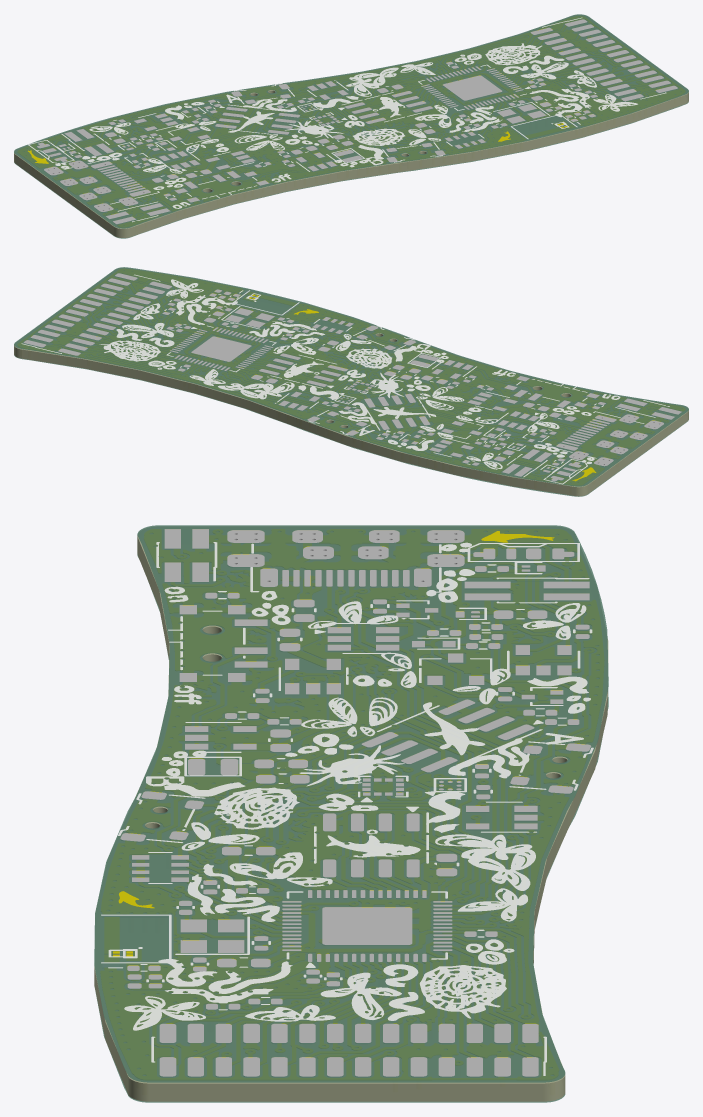
Rendered from tidal.glb.
3 renders of one model, top to bottom at view 1: azimuth 30°, elevation 25°; view 2: azimuth 150°, elevation 25°; view 3: azimuth 270°, elevation 25°, orthographic. The views are drawn at different scales.
Parts seen in each view (by area): view 1: =>[0:1:1:7], =>[0:1:1:2], =>[0:1:1:9], =>[0:1:1:5]; view 2: =>[0:1:1:7], =>[0:1:1:2], =>[0:1:1:9], =>[0:1:1:5]; view 3: =>[0:1:1:7], =>[0:1:1:2], =>[0:1:1:9], =>[0:1:1:5].
Boxes of the visible parts, x1,y1,x2,y2 form: =>[0:1:1:7]: (14, 14, 688, 238); =>[0:1:1:2]: (18, 16, 684, 226); =>[0:1:1:9]: (14, 15, 688, 237); =>[0:1:1:5]: (27, 17, 666, 227); =>[0:1:1:7]: (14, 267, 688, 496); =>[0:1:1:2]: (18, 269, 684, 484); =>[0:1:1:9]: (14, 268, 688, 496); =>[0:1:1:5]: (21, 274, 674, 484); =>[0:1:1:7]: (94, 525, 608, 1102); =>[0:1:1:2]: (101, 529, 603, 1079); =>[0:1:1:9]: (94, 527, 608, 1101); =>[0:1:1:5]: (101, 542, 593, 1075).
Size of the model in its own units: 0.06 by 0.00106 by 0.0234.
Materials: 4 (4 with a texture image).
